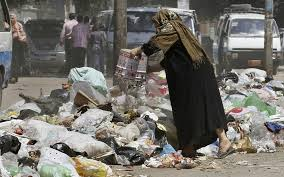garbage: (63, 84, 166, 166), (4, 101, 114, 177), (225, 70, 284, 131)
